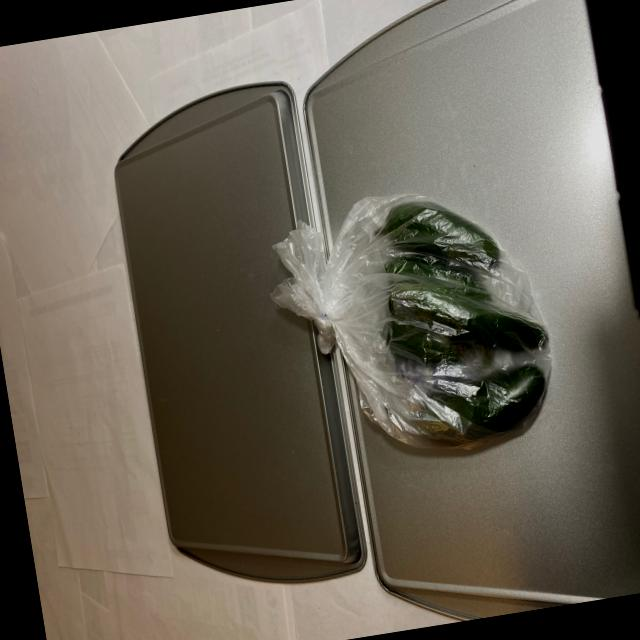chilli: (311, 170, 563, 476)
